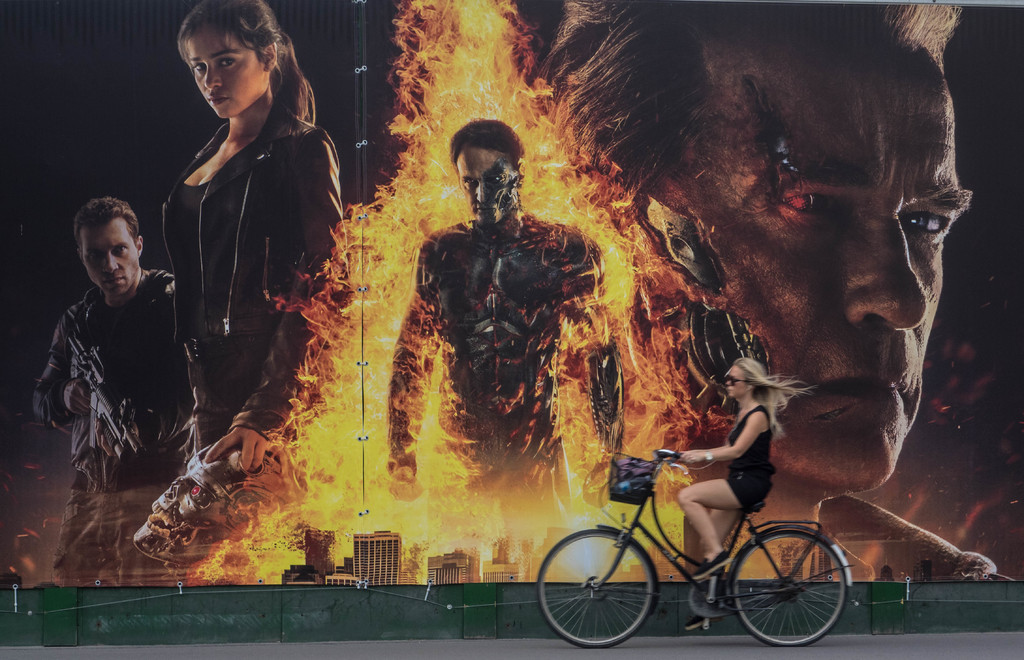Bike: (531, 446, 854, 654)
